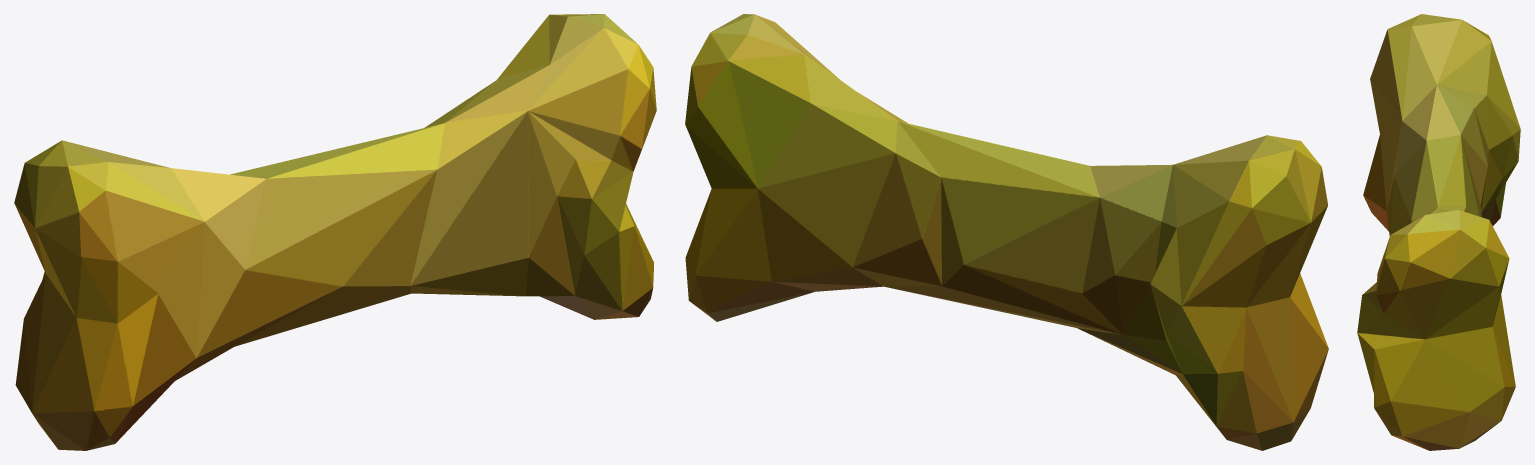
The picture shows the model from 3 angles, left to right: view 1: azimuth 30°, elevation 25°; view 2: azimuth 150°, elevation 25°; view 3: azimuth 270°, elevation 25°; orthographic projection. The views are drawn at different scales.
Size of the model in its own units: 1.73 by 0.8003 by 0.5184.
Materials: 1 (1 with a texture image).
